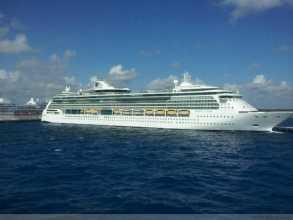youlun: (41, 77, 289, 129)
